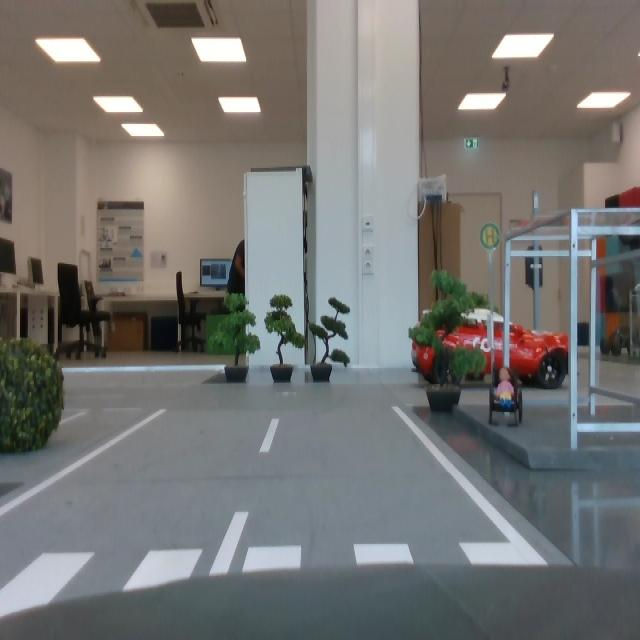car: (411, 308, 571, 390), (600, 325, 640, 359)
person: (494, 366, 516, 408)
potted plant: (409, 262, 489, 410), (1, 336, 65, 453), (207, 292, 261, 382), (308, 297, 351, 382), (264, 293, 305, 382)
traffic light: (525, 248, 544, 290)
